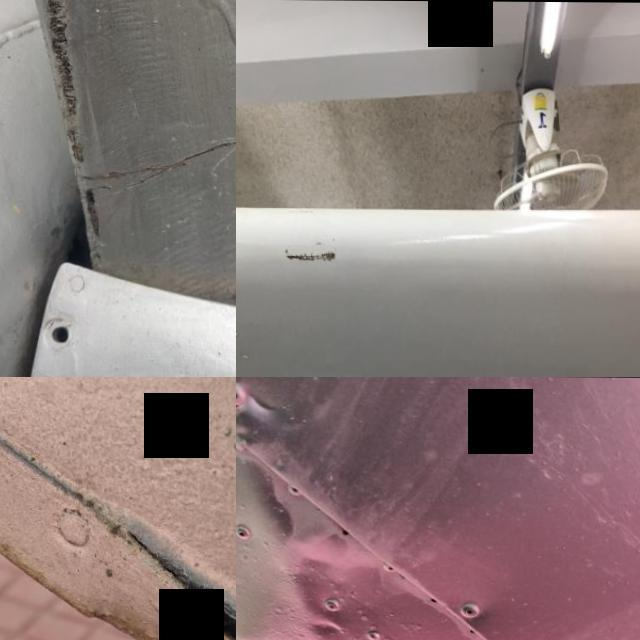Crack: (139, 536, 236, 640), (271, 232, 348, 292)
Dent: (236, 460, 598, 640)
Missing_Fastener: (13, 301, 82, 370)
